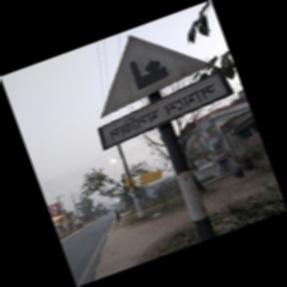Mosque in front: (97, 30, 233, 164)
